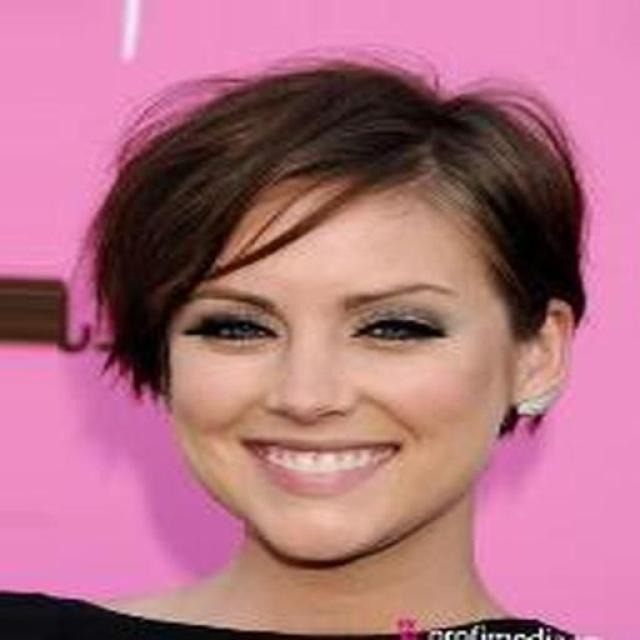bareface: (155, 166, 542, 556)
